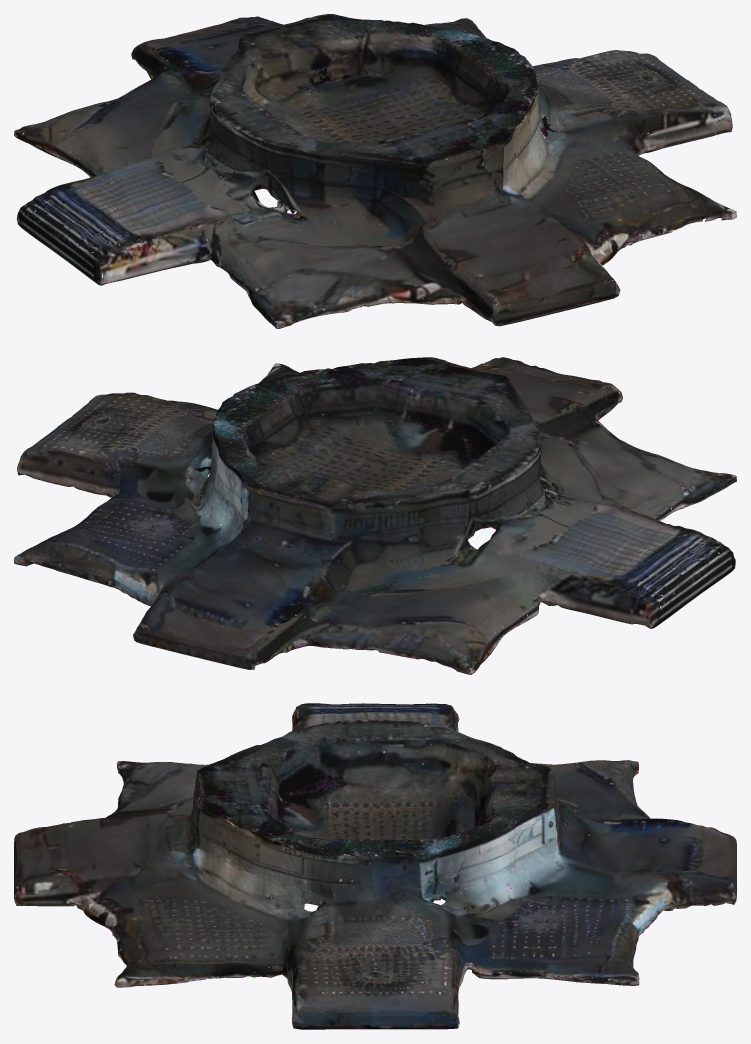
Rendered from the_wide_foundation_for_the_turret_1 (1).fbx.
3 renders of one model, top to bottom at view 1: azimuth 30°, elevation 25°; view 2: azimuth 150°, elevation 25°; view 3: azimuth 270°, elevation 25°, orthographic.
Visible parts, largest first — view 1: mesh; view 2: mesh; view 3: mesh.
Part boxes in pixels (x1=…): mesh: x1=14, y1=14, x2=736, y2=328; mesh: x1=14, y1=357, x2=736, y2=674; mesh: x1=14, y1=703, x2=736, y2=1029.
Size of the model in its own units: 1.17 by 0.16 by 1.17.
Materials: 1 (1 with a texture image).
